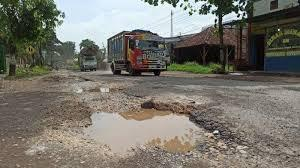Pothole: (77, 107, 240, 153), (39, 70, 136, 95)
